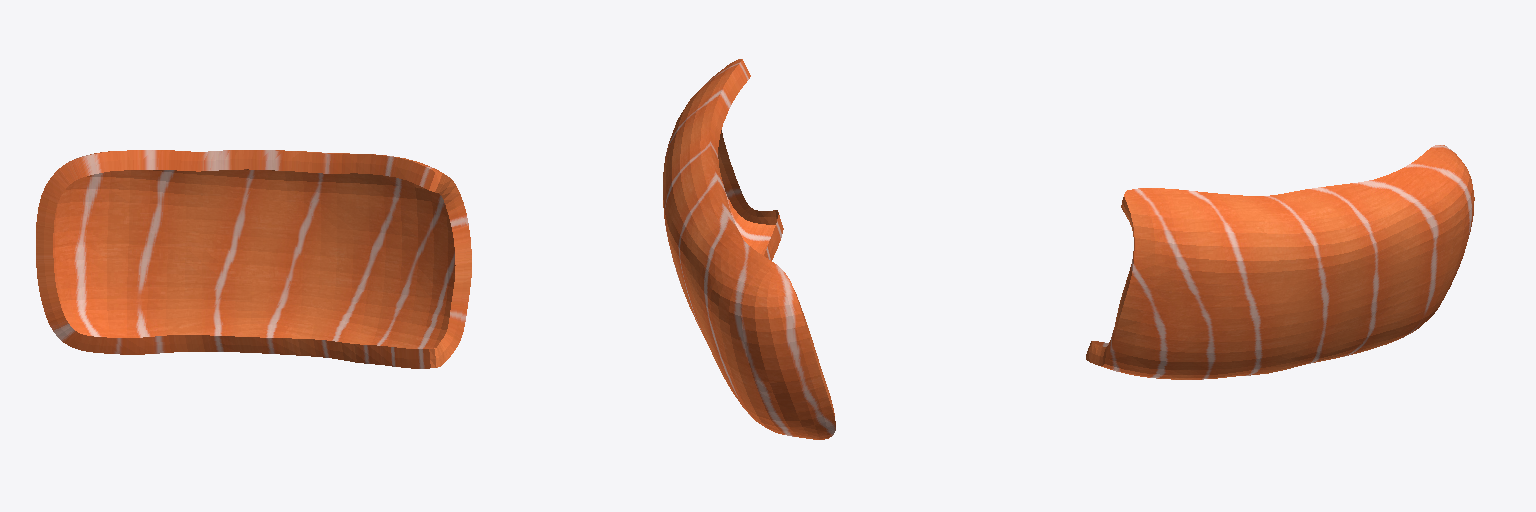
The picture shows the model from 3 angles: view 1: azimuth 30°, elevation 25°; view 2: azimuth 150°, elevation 25°; view 3: azimuth 270°, elevation 25°; orthographic projection.
Parts seen in each view (by area): view 1: dynamic; view 2: dynamic; view 3: dynamic.
Boxes of the visible parts, <box> form: dynamic: <box>36,150,471,368</box>; dynamic: <box>663,59,835,439</box>; dynamic: <box>1086,145,1474,379</box>.
Bounding box in the file's own units: 0.05 × 0.0398 × 0.0604.
Materials: 1 (1 with a texture image).